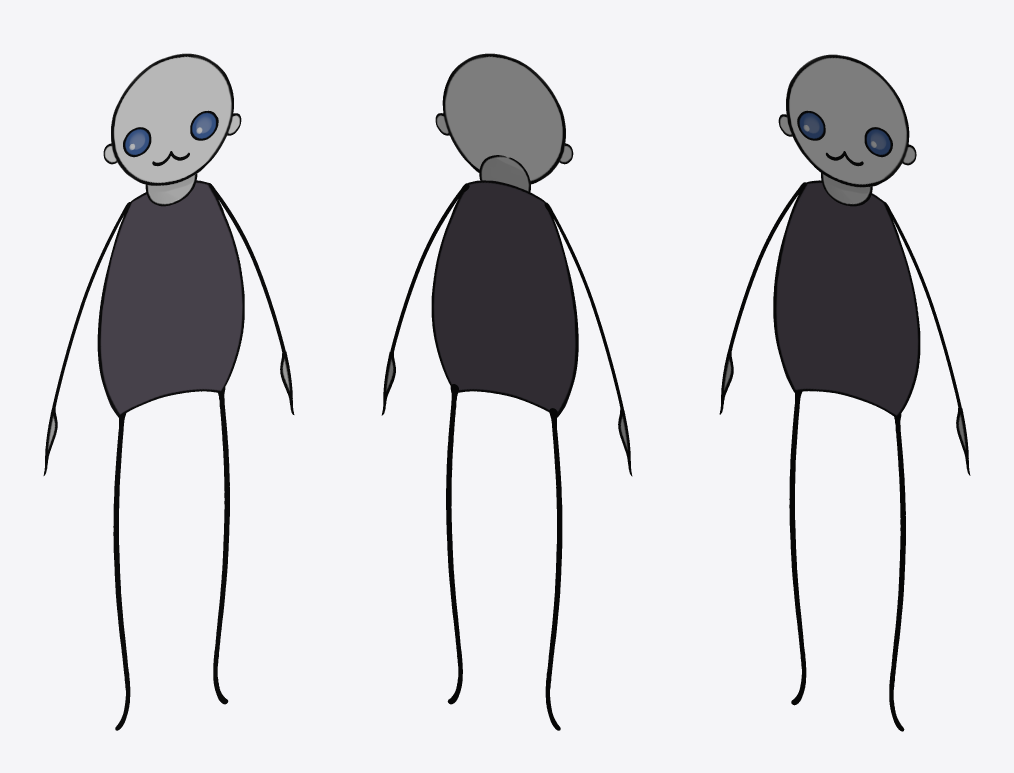
Rendered from SM_Peanut.fbx.
3 views of the same model, side by side, from view 1: azimuth 30°, elevation 25°; view 2: azimuth 150°, elevation 25°; view 3: azimuth 330°, elevation 25° (orthographic).
Visible parts, largest first — view 1: Core, Head, Neck, Jambe_Droite, Jambe_Gauche, Cuisse_Droite, Cuisse_Gauche, Oeuil_Droit, Oeuil_Gauche; view 2: Core, Head, Neck, Cuisse_Gauche, Cuisse_Droite, Jambe_Droite, Jambe_Gauche; view 3: Core, Head, Neck, Jambe_Droite, Jambe_Gauche, Cuisse_Gauche, Cuisse_Droite, Oeuil_Droit, Oeuil_Gauche.
Boxes of the visible parts, x1,y1,x2,y2 form: Core: (97,180,244,417); Head: (103,53,241,185); Neck: (145,174,197,206); Jambe_Droite: (213,520,229,666); Jambe_Gauche: (113,547,129,688); Cuisse_Droite: (218,387,229,525); Cuisse_Gauche: (113,413,126,552); Oeuil_Droit: (190,110,218,140); Oeuil_Gauche: (123,127,151,157); Core: (431,180,578,416); Head: (435,53,573,184); Neck: (479,155,530,191); Cuisse_Gauche: (549,408,562,552); Cuisse_Droite: (446,384,458,525); Jambe_Droite: (446,520,462,667); Jambe_Gauche: (546,551,561,688); Core: (773,180,920,417); Head: (778,54,916,187); Neck: (821,173,872,206); Jambe_Droite: (889,548,905,689); Jambe_Gauche: (789,521,805,667); Cuisse_Gauche: (789,391,801,526); Cuisse_Droite: (894,413,905,548); Oeuil_Droit: (864,127,892,157); Oeuil_Gauche: (797,110,825,140).
Size of the model in its own units: 0.4427 by 0.9762 by 0.003.
